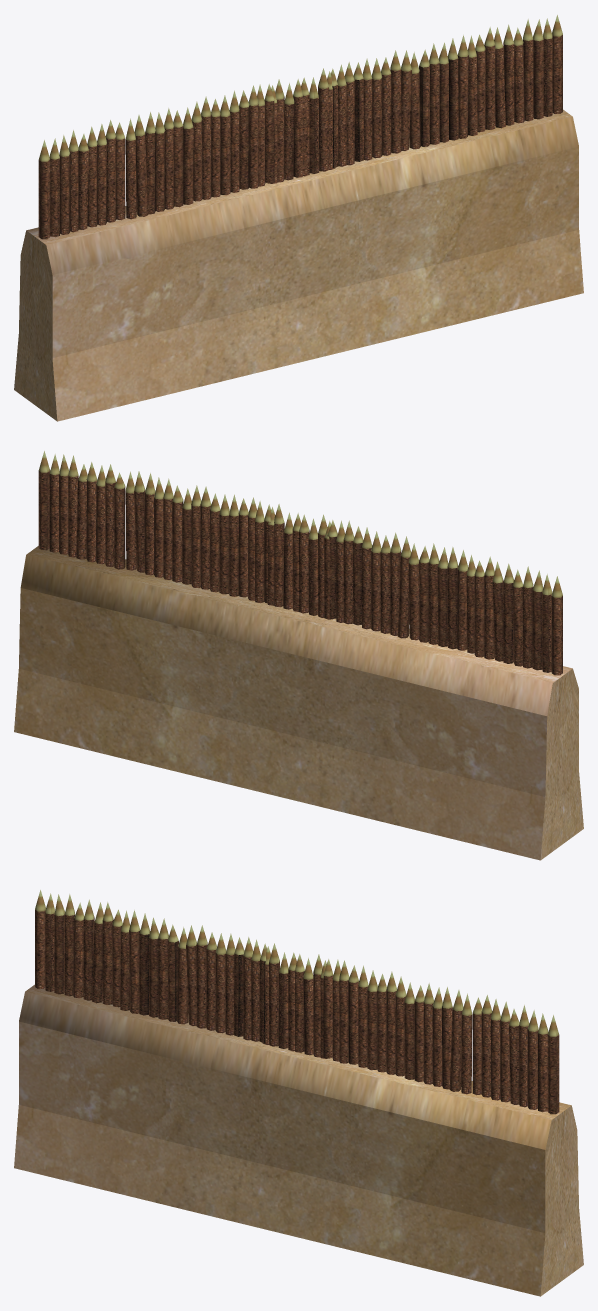
The model's file is yayoi_wall_long.dae.
The picture shows the model from 3 angles, top to bottom: view 1: azimuth 30°, elevation 25°; view 2: azimuth 150°, elevation 25°; view 3: azimuth 330°, elevation 25°; orthographic projection.
Visible parts, largest first — view 1: wall_long; view 2: wall_long; view 3: wall_long.
Part boxes in pixels (<box>): wall_long: <box>14,15,583,421</box>; wall_long: <box>14,451,583,860</box>; wall_long: <box>14,890,583,1296</box>.
Size of the model in its own units: 31.68 by 4.52 by 15.53.
Materials: 1 (1 with a texture image).
